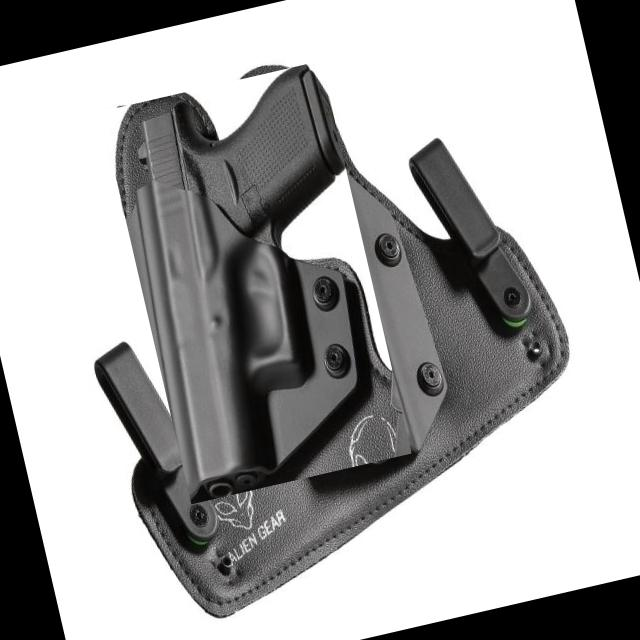Gun: (137, 64, 345, 497)
